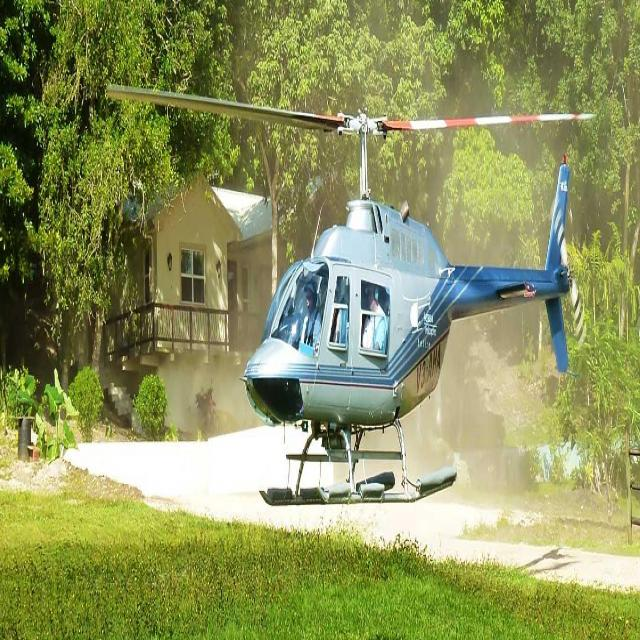helicopter: (239, 104, 585, 524)
